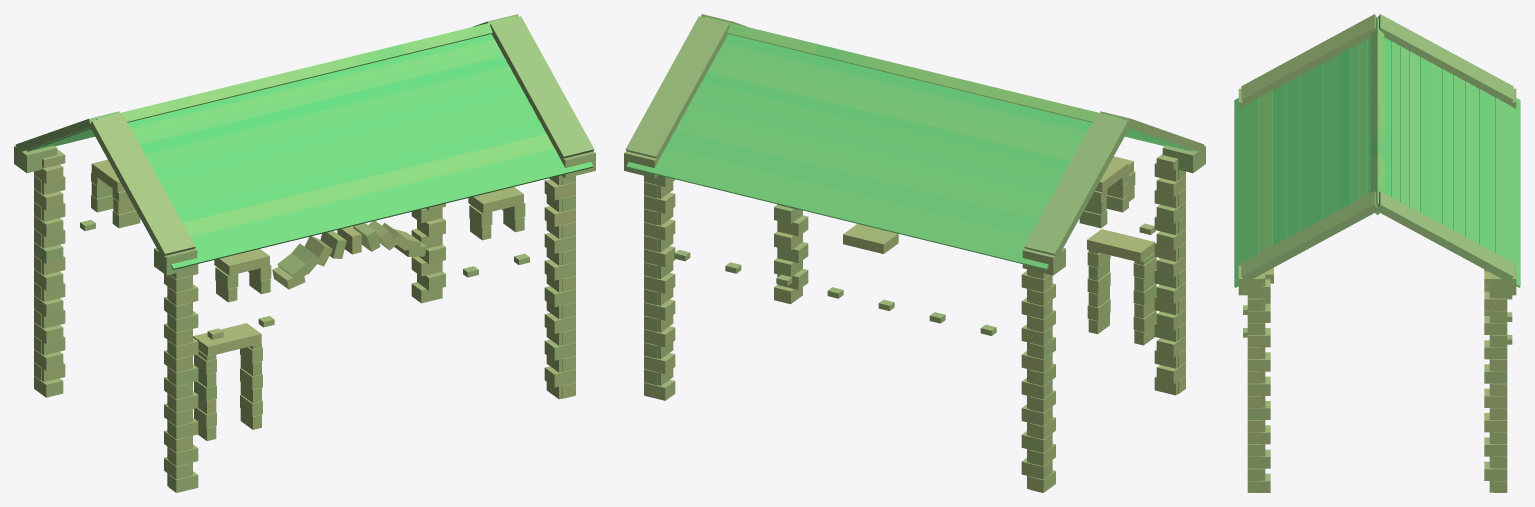
File: SM_Bld_236_Stone.glb
3 views of the same model, side by side, from view 1: azimuth 30°, elevation 25°; view 2: azimuth 150°, elevation 25°; view 3: azimuth 270°, elevation 25° (orthographic). The views are drawn at different scales.
Parts seen in each view (by area): view 1: SM_Bld_236_Stone; view 2: SM_Bld_236_Stone; view 3: SM_Bld_236_Stone.
Boxes of the visible parts, x1,y1,x2,y2 form: SM_Bld_236_Stone: (14, 14, 595, 492); SM_Bld_236_Stone: (624, 14, 1205, 492); SM_Bld_236_Stone: (1234, 14, 1520, 492).
Bounding box in the file's own units: 10.09 × 7.29 × 6.4.
